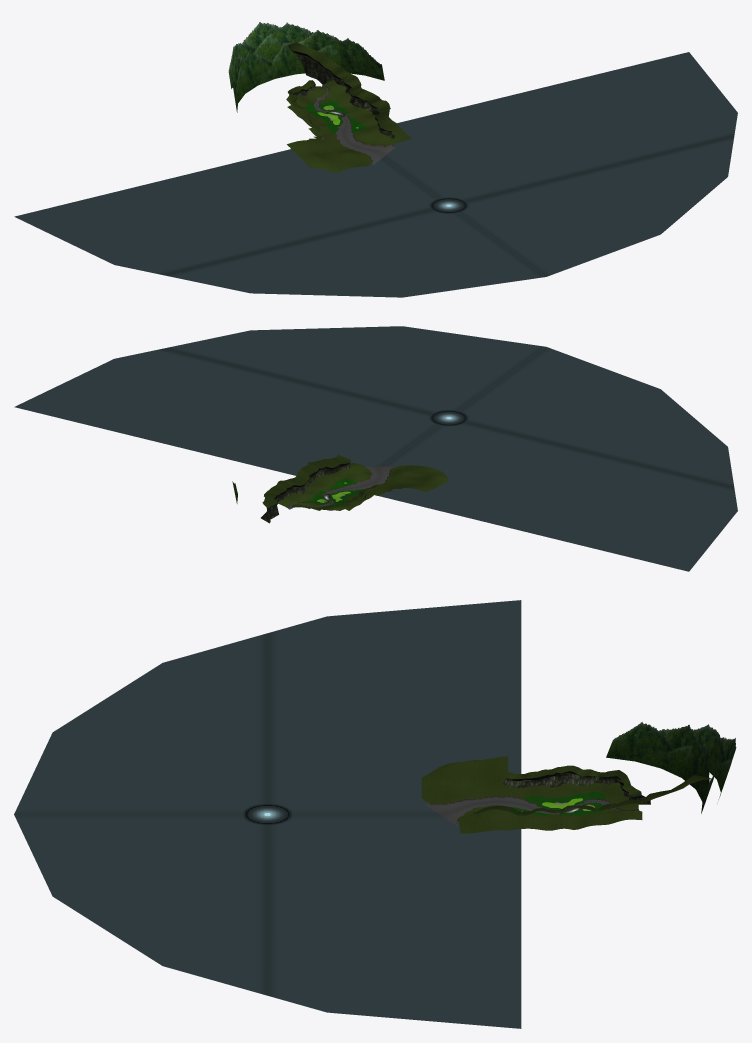
The model's file is glf_course_fc16__glf_course_fc16.glb.
The picture shows the model from 3 angles, top to bottom: view 1: azimuth 30°, elevation 25°; view 2: azimuth 150°, elevation 25°; view 3: azimuth 270°, elevation 25°; orthographic projection. The views are drawn at different scales.
Visible parts, largest first — view 1: polygon57, polygon44, polygon42, polygon46, polygon34, polygon54; view 2: polygon57, polygon44, polygon34, polygon46, polygon54; view 3: polygon57, polygon44, polygon42, polygon34, polygon46, polygon54.
Boxes of the visible parts, bbox=[...] form: polygon57: bbox=[14, 52, 737, 297]; polygon44: bbox=[286, 42, 411, 172]; polygon42: bbox=[228, 22, 384, 112]; polygon46: bbox=[289, 47, 394, 141]; polygon34: bbox=[314, 86, 395, 164]; polygon54: bbox=[305, 101, 365, 132]; polygon57: bbox=[14, 326, 737, 571]; polygon44: bbox=[262, 455, 449, 510]; polygon34: bbox=[289, 465, 399, 508]; polygon46: bbox=[261, 460, 367, 523]; polygon54: bbox=[308, 479, 366, 506]; polygon57: bbox=[14, 600, 521, 1028]; polygon44: bbox=[421, 756, 712, 833]; polygon42: bbox=[606, 722, 736, 813]; polygon34: bbox=[424, 797, 640, 826]; polygon46: bbox=[502, 773, 650, 804]; polygon54: bbox=[512, 791, 605, 815].
Bounding box in the file's own units: 46760 × 3614 × 33361.
Materials: 17 (16 with a texture image).
